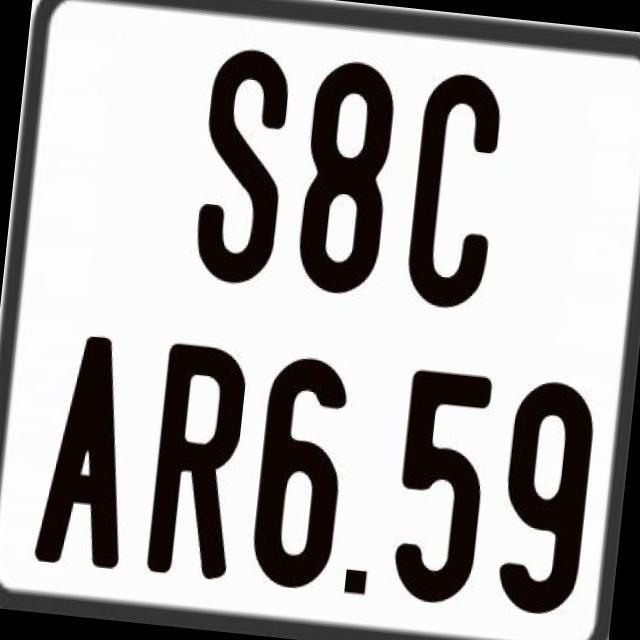5: (386, 363, 496, 603)
6: (248, 350, 352, 594)
8: (290, 54, 396, 295)
9: (490, 378, 602, 618)
A: (33, 332, 148, 580)
C: (402, 69, 506, 318)
R: (142, 340, 250, 578)
S: (191, 46, 298, 296)
